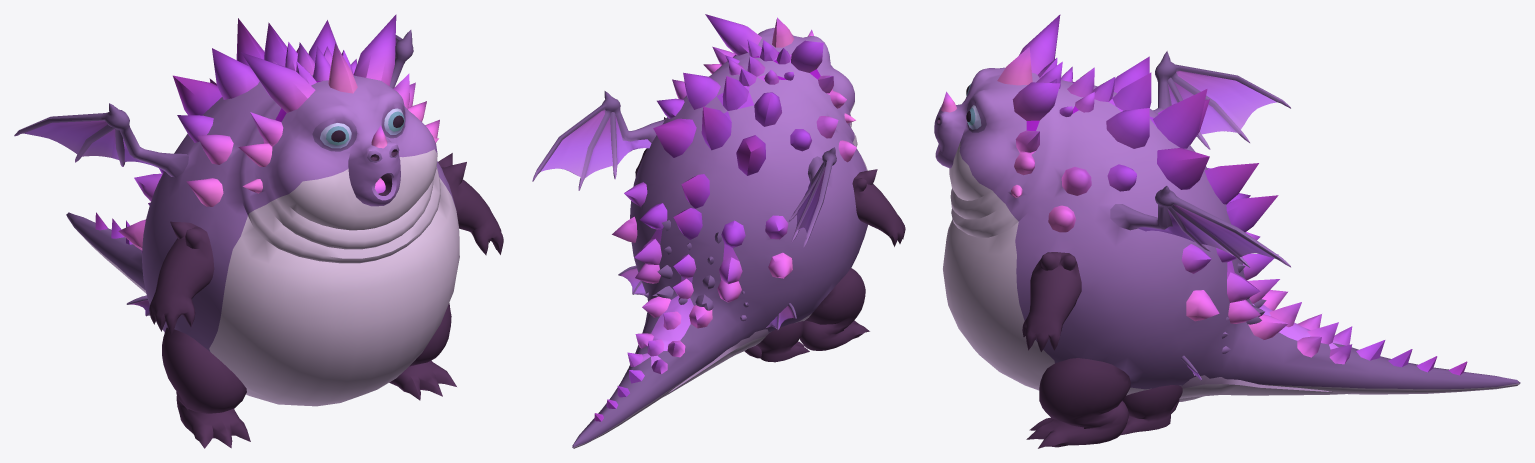
Rendered from Dragon.fbx.
3 renders of one model, left to right at view 1: azimuth 30°, elevation 25°; view 2: azimuth 150°, elevation 25°; view 3: azimuth 270°, elevation 25°, orthographic. The views are drawn at different scales.
Parts seen in each view (by area): view 1: Dragon.002; view 2: Dragon.002, Dragon.001, Dragon; view 3: Dragon.002, Dragon.001.
Part boxes in pixels (<box>): Dragon.002: <box>14,14,503,448</box>; Dragon.002: <box>532,14,905,448</box>; Dragon.001: <box>644,208,809,396</box>; Dragon: <box>618,265,796,358</box>; Dragon.002: <box>934,14,1520,448</box>; Dragon.001: <box>1120,204,1350,435</box>.
Size of the model in its own units: 280 by 285 by 434.
